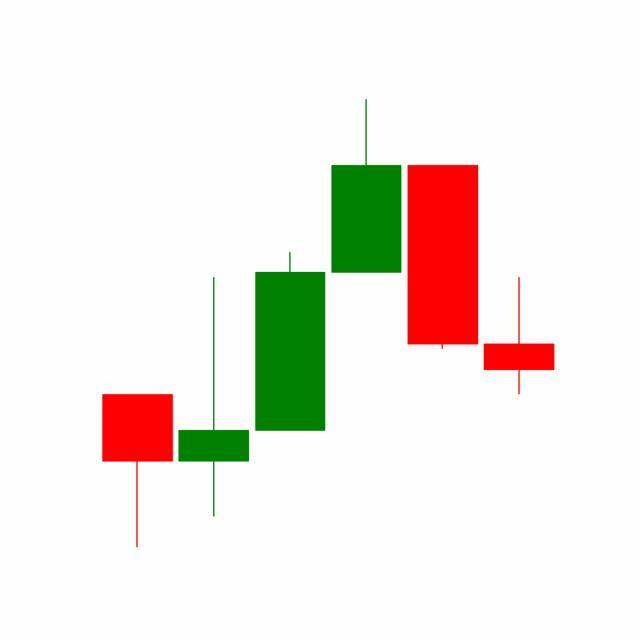Marubozu: (404, 165, 482, 353)
